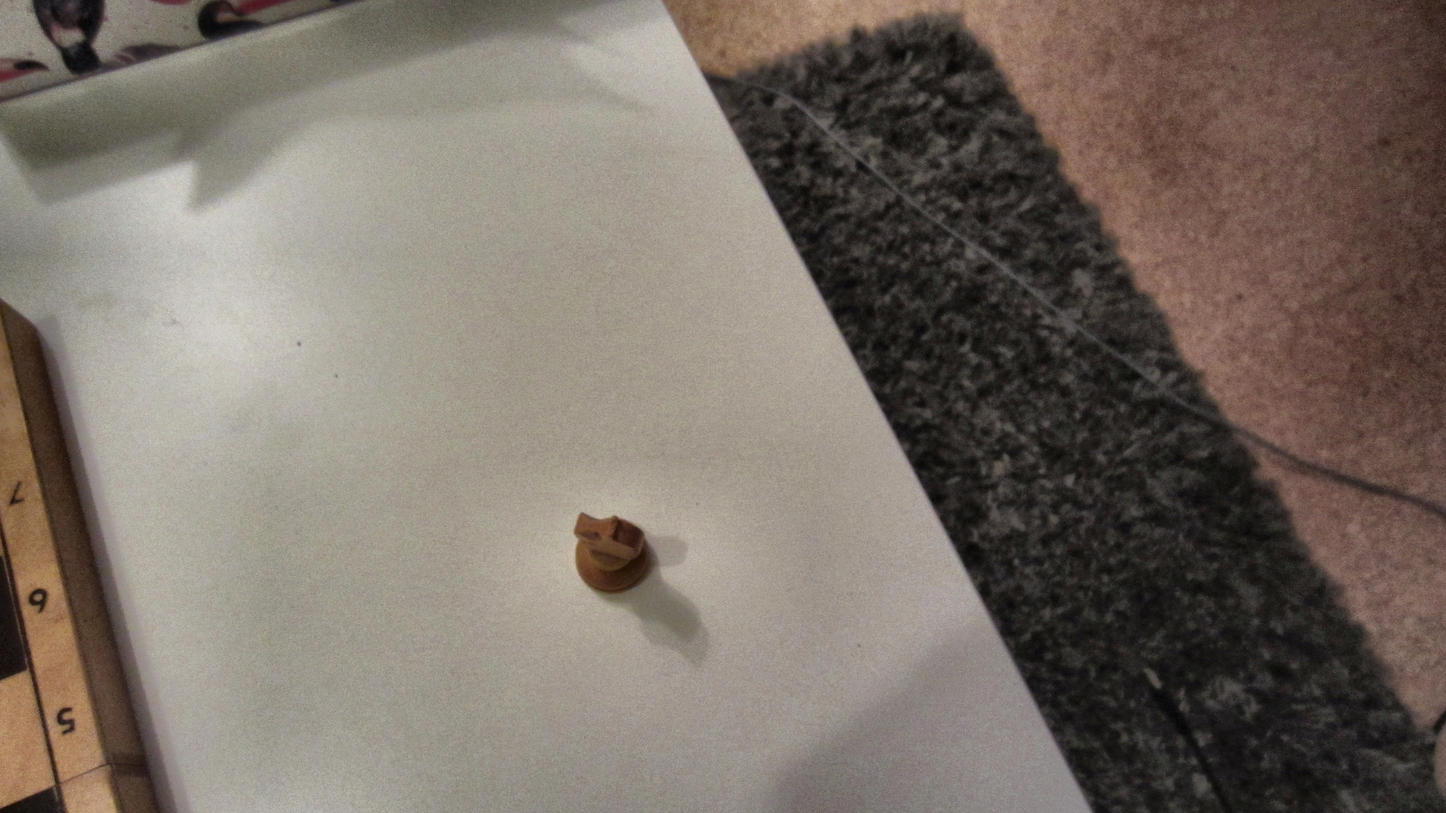white-knight: (572, 511, 652, 595)
